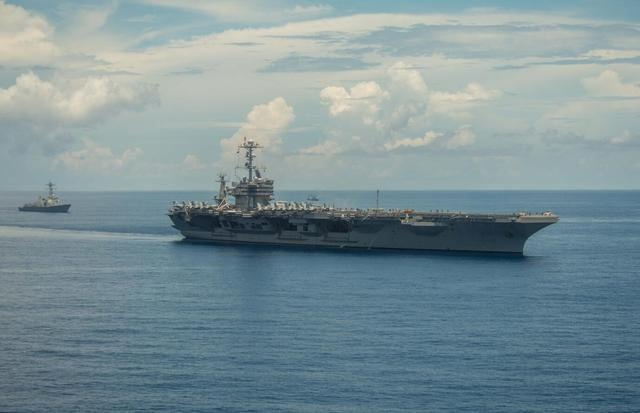warship: (155, 126, 567, 259), (20, 177, 74, 215)
